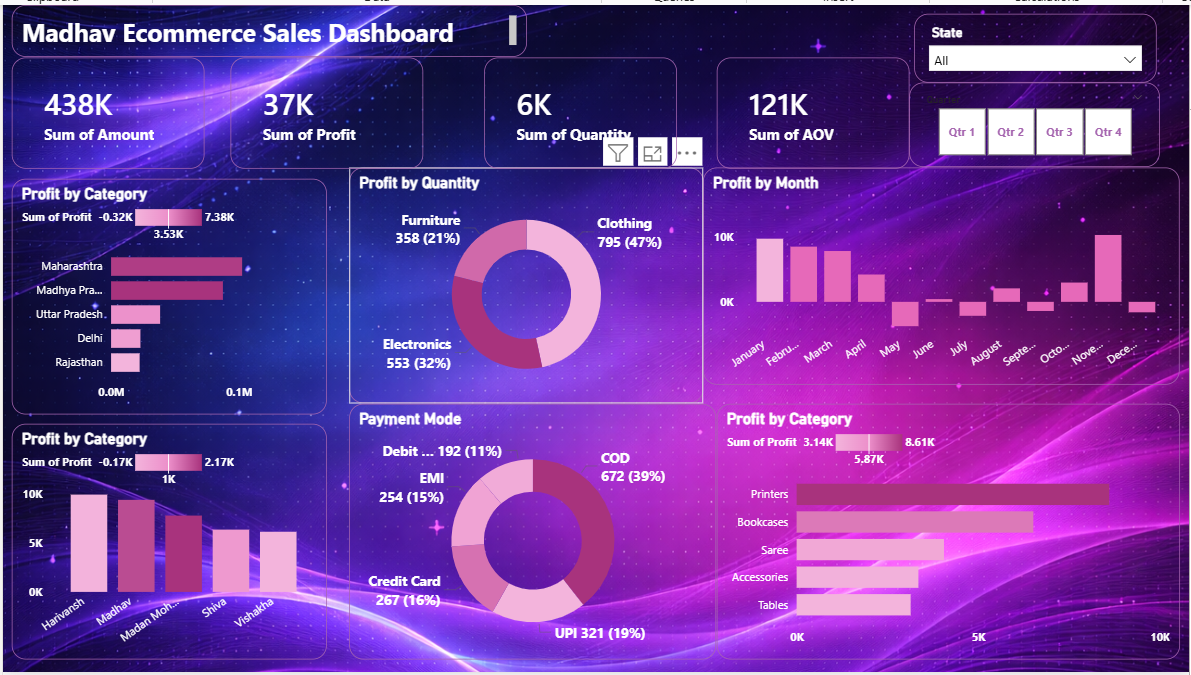

The dashboard page shown, as its layout file describes it:
{"tool":"powerbi","page":{"name":"Page 1","canvas":[1280,720],"ordinal":0},"visuals":[{"type":"textbox","box":[10,0,555.7,55.7],"z":0},{"type":"columnChart","title":"Profit by Month","fields":{"Y":["Sum(Details.Profit)"],"Category":["Orders.Order Date.Variation.Date Hierarchy.Month"]},"box":[756,176,514,234],"z":1000},{"type":"barChart","title":"Profit by Category","fields":{"Category":["Details.Sub-Category"],"Y":["Sum(Details.Profit)"]},"box":[770,430,500,276],"z":2000},{"type":"donutChart","title":"Profit by Quantity","fields":{"Category":["Details.Category"],"Y":["Sum(Details.Quantity)"]},"box":[374,176,382,254],"z":3000},{"type":"donutChart","title":"Payment Mode","fields":{"Category":["Details.PaymentMode"],"Y":["Sum(Details.Quantity)"]},"box":[374,430,396,276],"z":4000},{"type":"cardVisual","fields":{"Data":["Sum(Details.Amount)"]},"box":[10,56,208,120],"z":5000},{"type":"cardVisual","fields":{"Data":["Sum(Details.Profit)"]},"box":[246,56,208,120],"z":6000},{"type":"cardVisual","fields":{"Data":["Sum(Details.Quantity)"]},"box":[520,56,208,120],"z":7000},{"type":"cardVisual","fields":{"Data":["Sum(Details.AOV)"]},"box":[770,56,208,120],"z":8000},{"type":"barChart","title":"Profit by Category","fields":{"Category":["Orders.State"],"Y":["Sum(Details.Amount)"]},"box":[10,187.1,340,254.3],"z":9000},{"type":"columnChart","title":"Profit by Category","fields":{"Category":["Orders.CustomerName"],"Y":["Sum(Details.Amount)"]},"box":[10,451.4,340,254.3],"z":10000},{"type":"slicer","fields":{"Values":["Orders.Order Date.Variation.Date Hierarchy.Quarter"]},"box":[978.6,84.3,270,91.4],"z":11000},{"type":"slicer","fields":{"Values":["Orders.State"]},"box":[982.9,10,261.4,74.3],"z":12000}]}

Visuals, with their boxes in screenshot pixels (x1, y1, x2, y2), scaled from the page's 1280x720 canvas onto the 1191x675 screenshot:
textbox: locate(9, 0, 526, 52)
"Profit by Month" columnChart: locate(703, 165, 1182, 384)
"Profit by Category" barChart: locate(716, 403, 1182, 662)
"Profit by Quantity" donutChart: locate(348, 165, 703, 403)
"Payment Mode" donutChart: locate(348, 403, 716, 662)
cardVisual - Sum(Details.Amount): locate(9, 52, 203, 165)
cardVisual - Sum(Details.Profit): locate(229, 52, 422, 165)
cardVisual - Sum(Details.Quantity): locate(484, 52, 677, 165)
cardVisual - Sum(Details.AOV): locate(716, 52, 910, 165)
"Profit by Category" barChart: locate(9, 175, 326, 414)
"Profit by Category" columnChart: locate(9, 423, 326, 662)
slicer - Orders.Order Date.Variation.Date Hierarchy.Quarter: locate(911, 79, 1162, 165)
slicer - Orders.State: locate(915, 9, 1158, 79)
